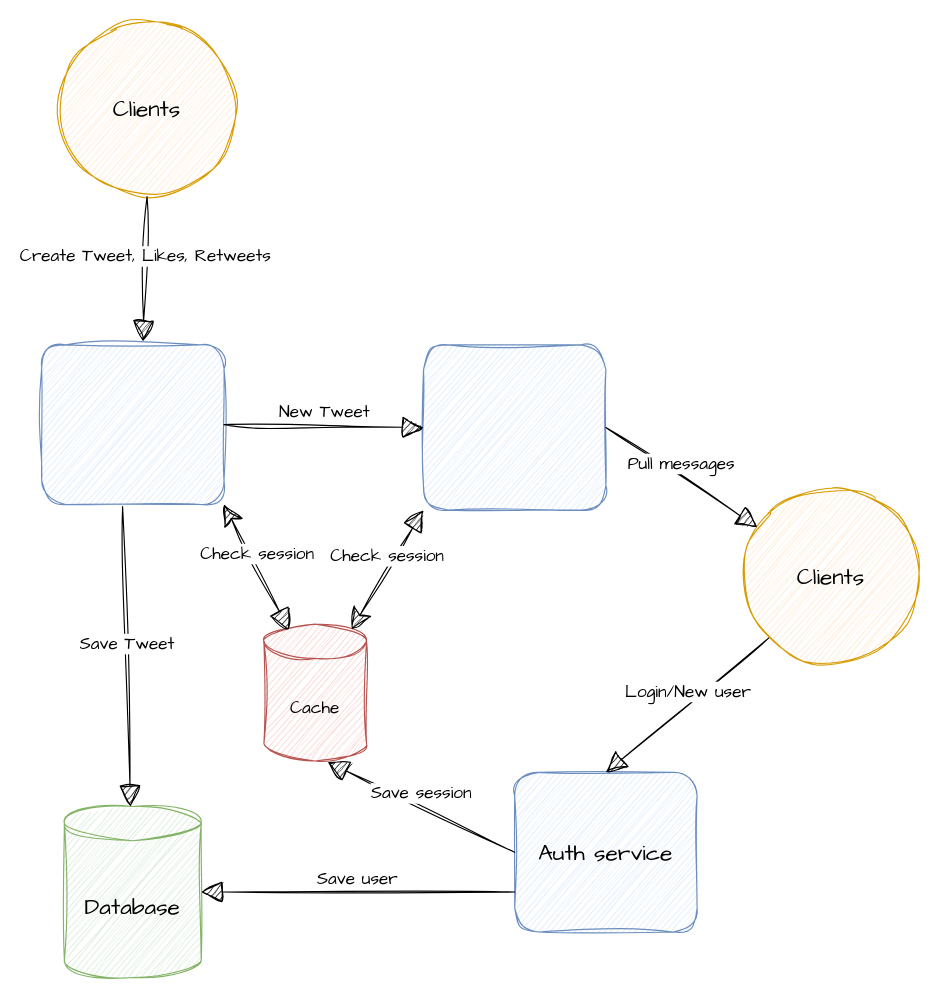
Image size: 939x998. Some labels were removed from this diagram. Each missing label, with the box of its shape:
Timeline service: (422, 344, 606, 510)
Tweet service: (40, 344, 224, 504)
